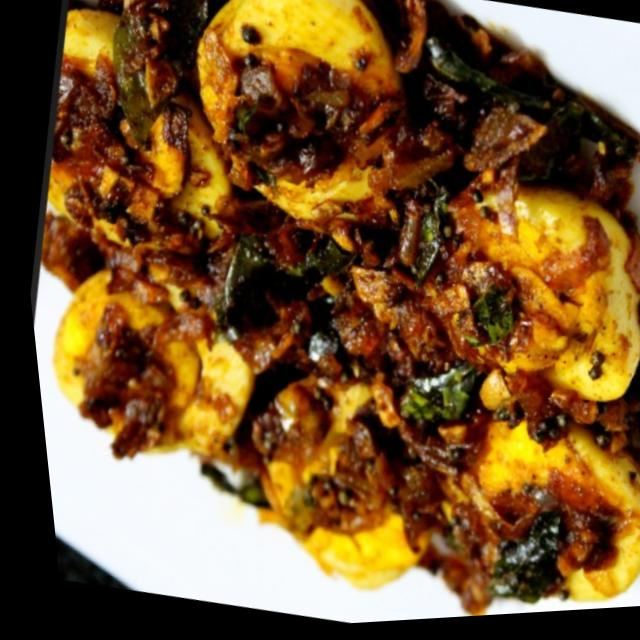EGG: (30, 0, 640, 613)
